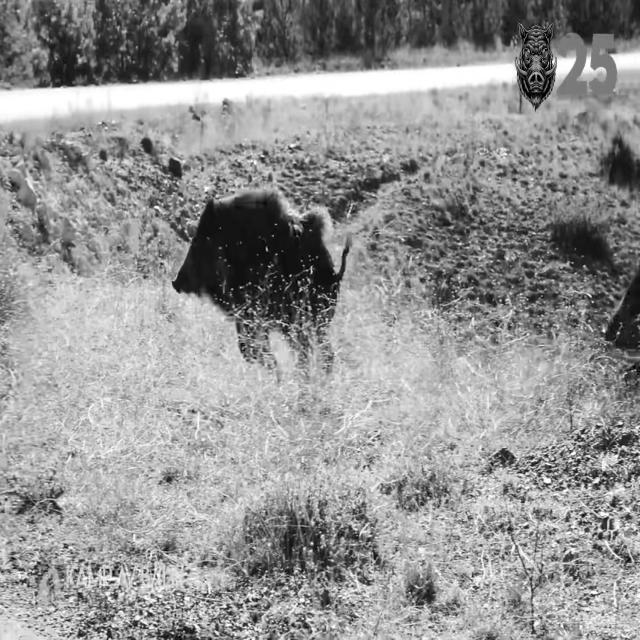boar: (172, 188, 348, 363)
